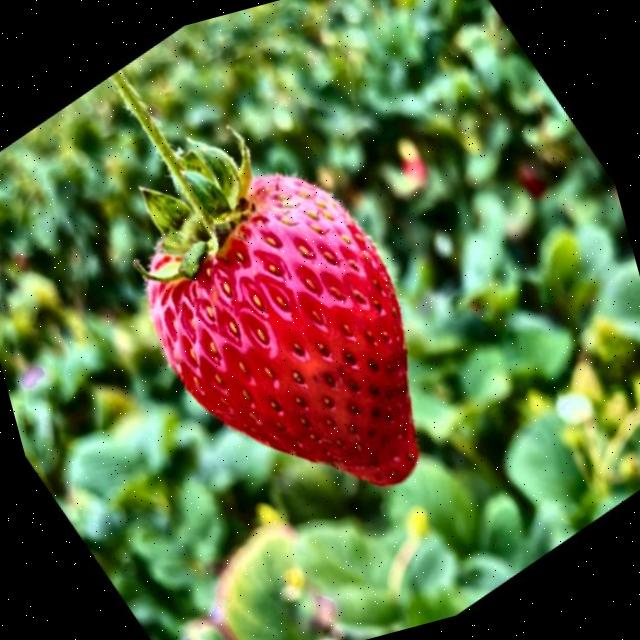strawberry: (114, 72, 418, 484)
